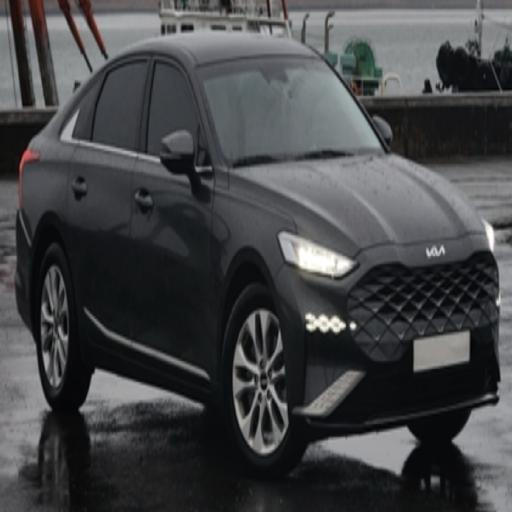normal: (16, 23, 510, 488)
